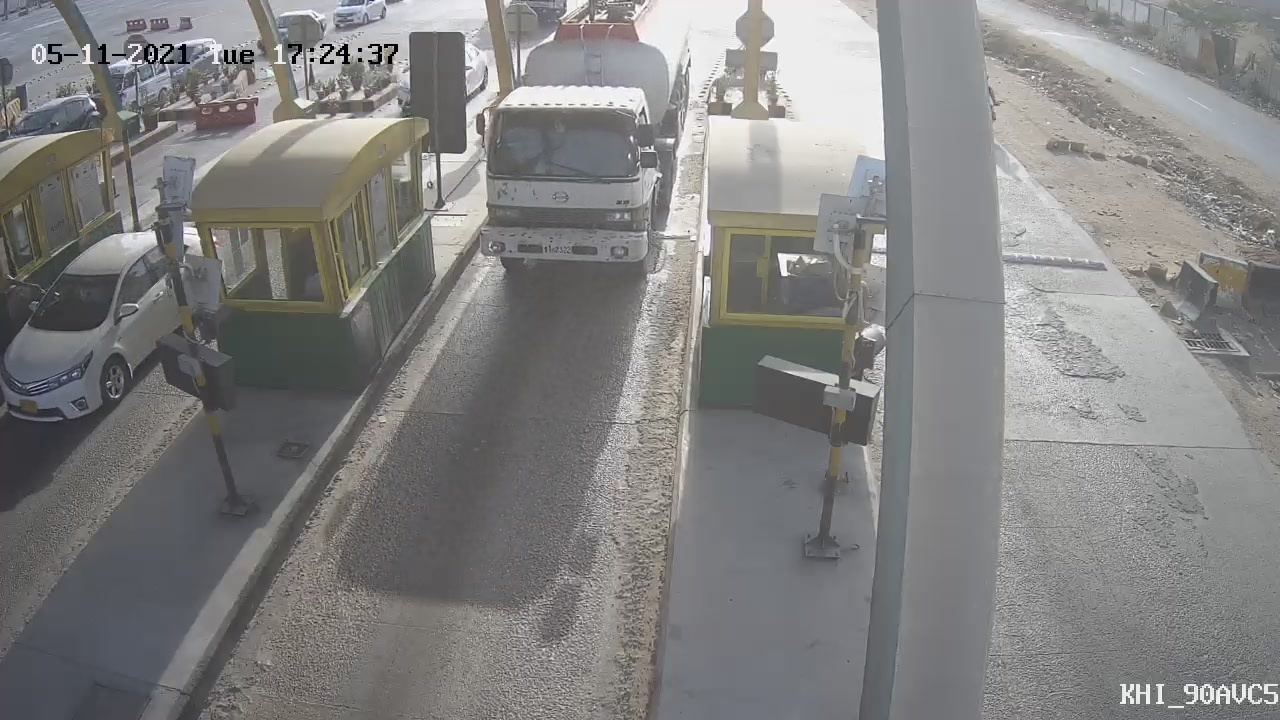F6: (448, 1, 707, 294)
